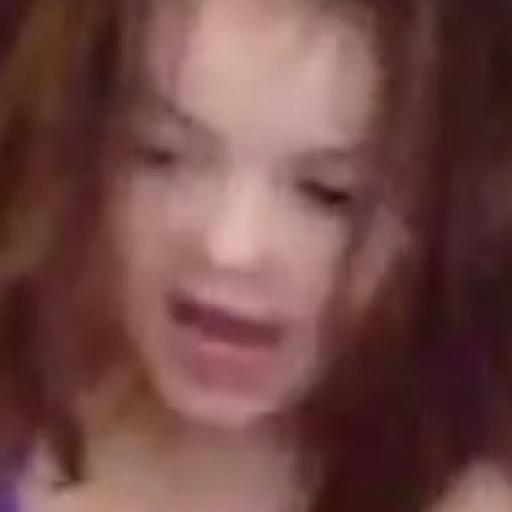Autism: (89, 18, 446, 429)
